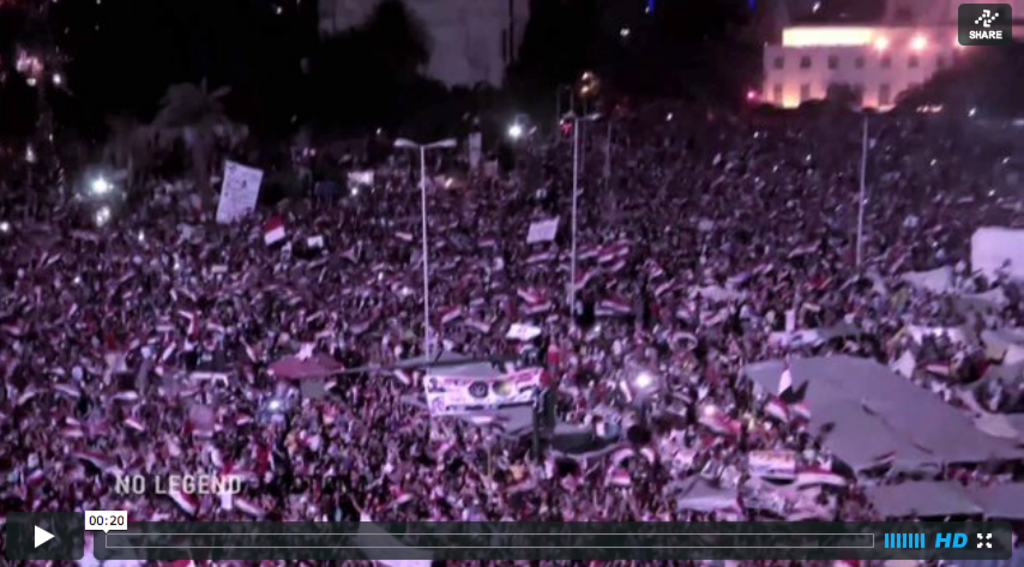Person: (0, 110, 1023, 567)
